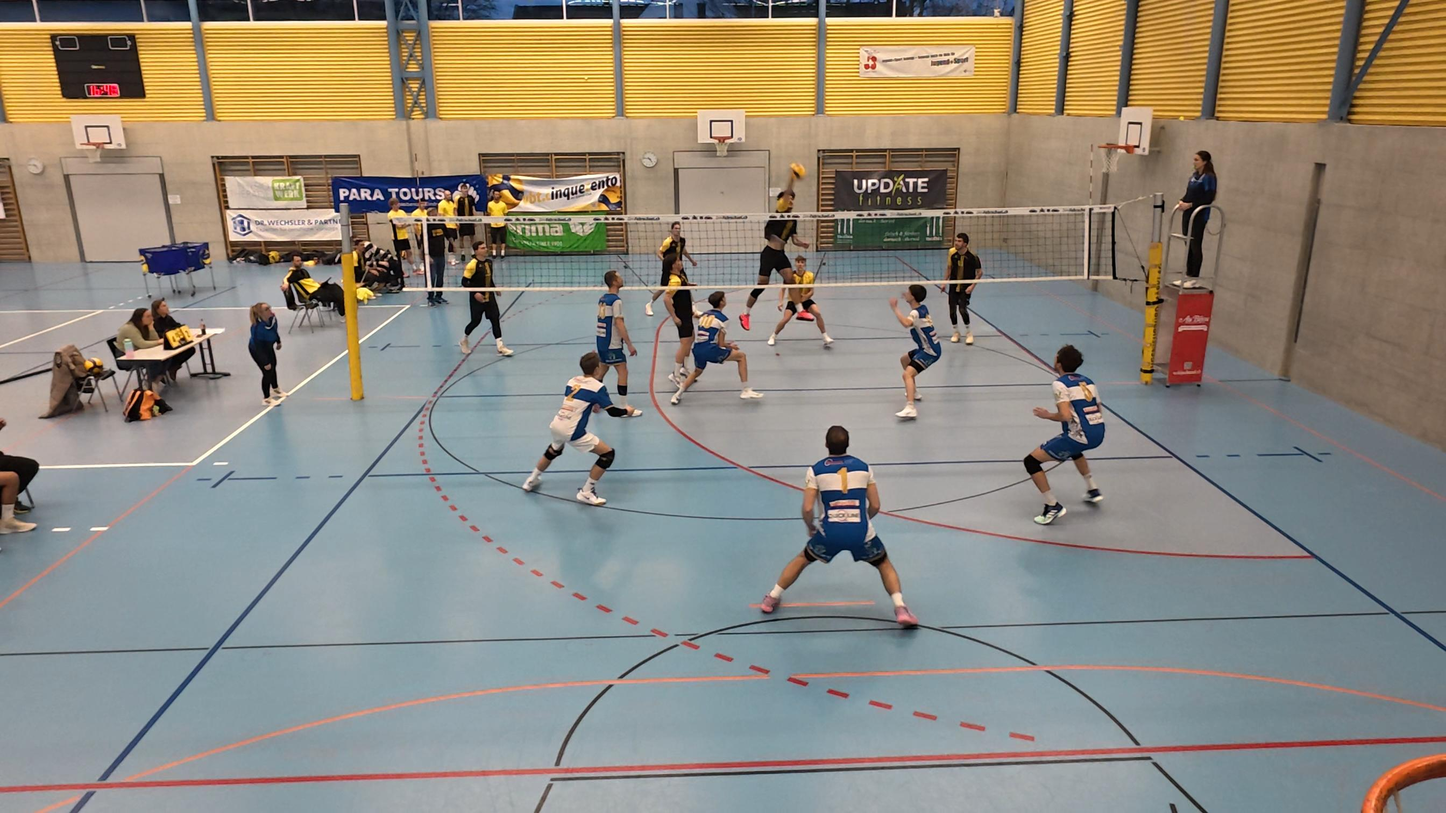Attack: (739, 174, 805, 334)
Player: (760, 425, 920, 628), (523, 351, 631, 506), (1025, 345, 1107, 524), (668, 294, 762, 404), (891, 287, 941, 422), (770, 254, 835, 350), (593, 271, 639, 404), (458, 248, 512, 358), (653, 252, 698, 381), (648, 221, 701, 318), (941, 230, 981, 345)
ball: (786, 165, 806, 180)
